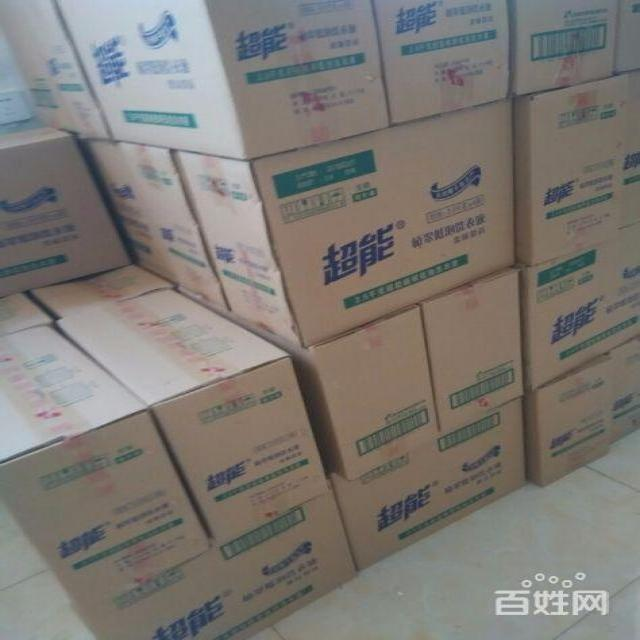box: (173, 98, 516, 348), (55, 288, 331, 547), (0, 324, 212, 614), (53, 0, 392, 161), (178, 286, 440, 481), (78, 490, 358, 640), (328, 398, 527, 572), (77, 141, 228, 310), (510, 70, 640, 265), (0, 126, 132, 299), (517, 228, 640, 390), (419, 266, 525, 436), (374, 1, 509, 125), (524, 353, 613, 487), (510, 0, 618, 96), (28, 264, 178, 318), (606, 335, 640, 445), (0, 292, 55, 337), (614, 0, 640, 75)
